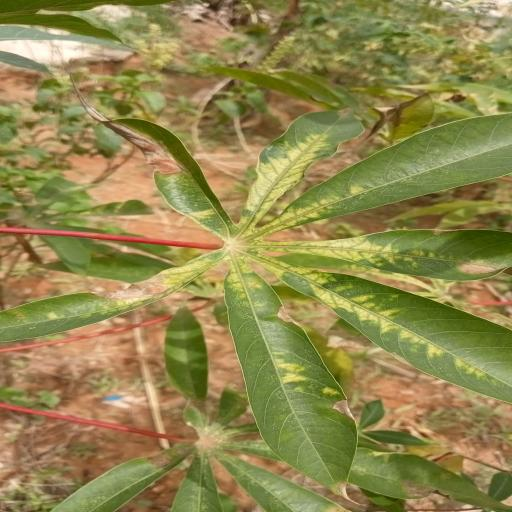Cassava_Mosaic: (0, 100, 512, 496)
